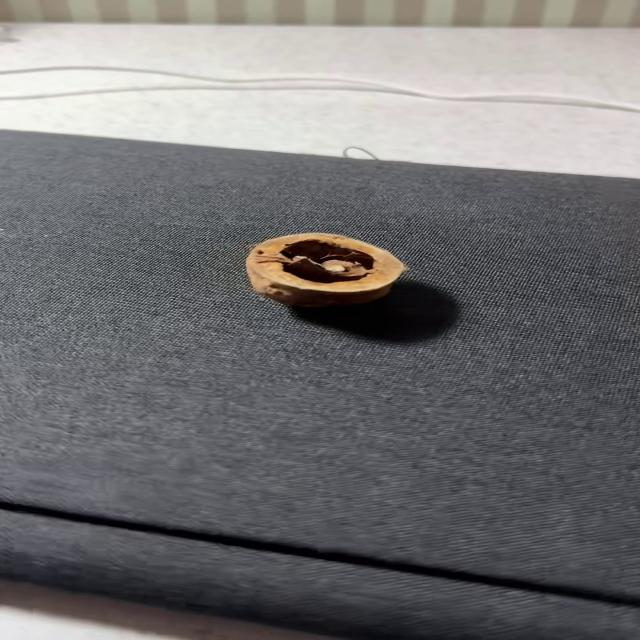nuts-bad0.5: (247, 233, 405, 307)
